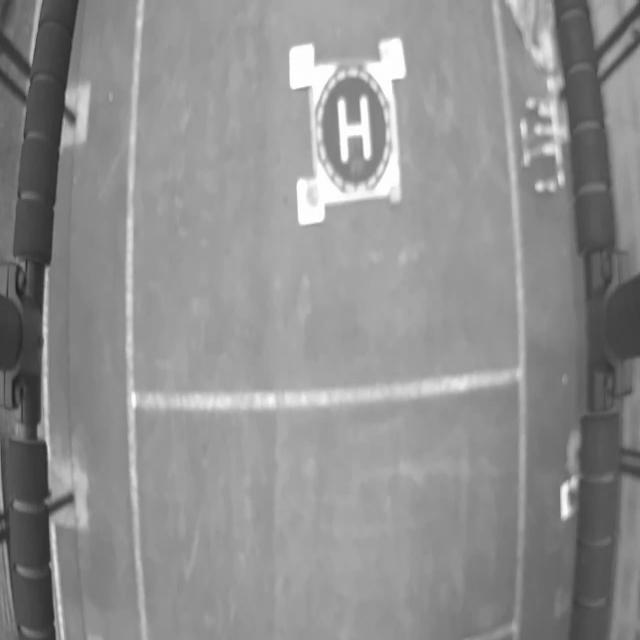Helipad: (337, 95, 372, 164)
